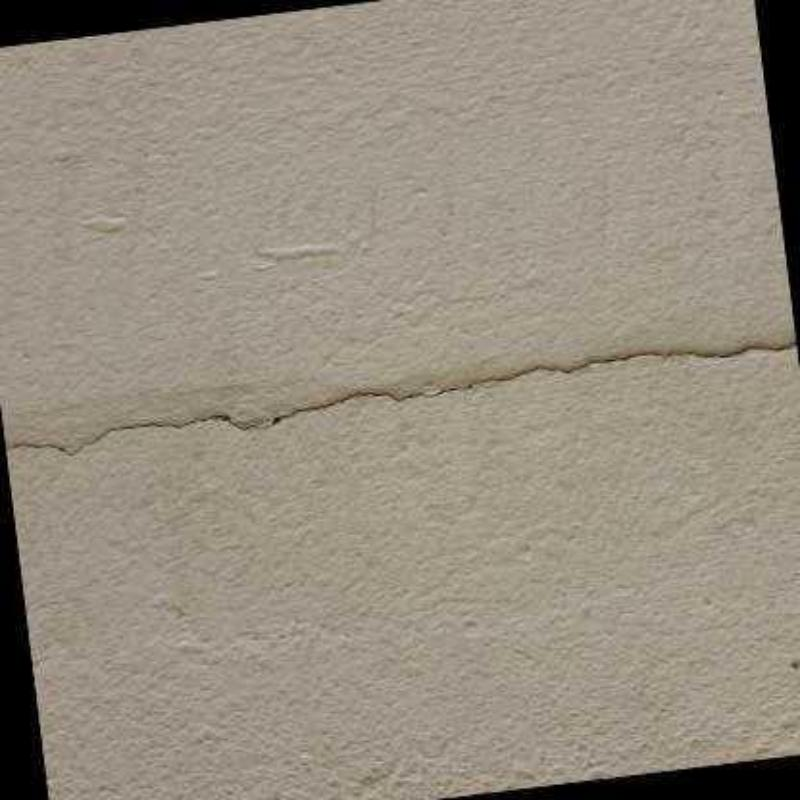pothole: (2, 337, 797, 457)
